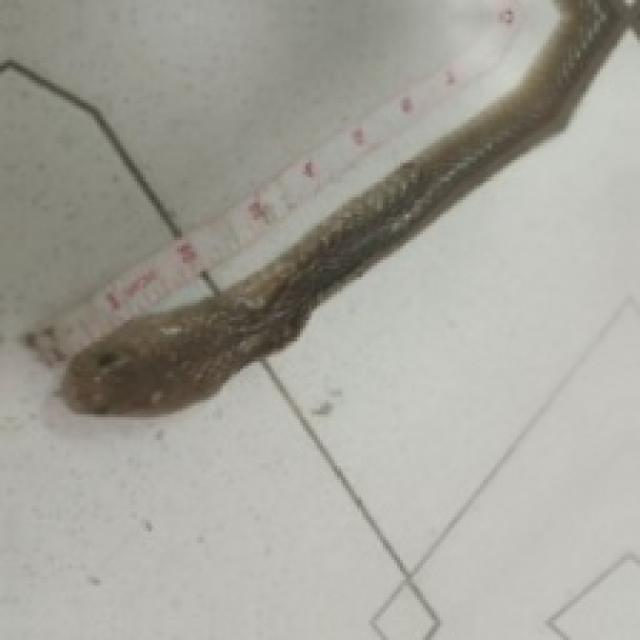philippine cobra: (63, 0, 637, 411)
